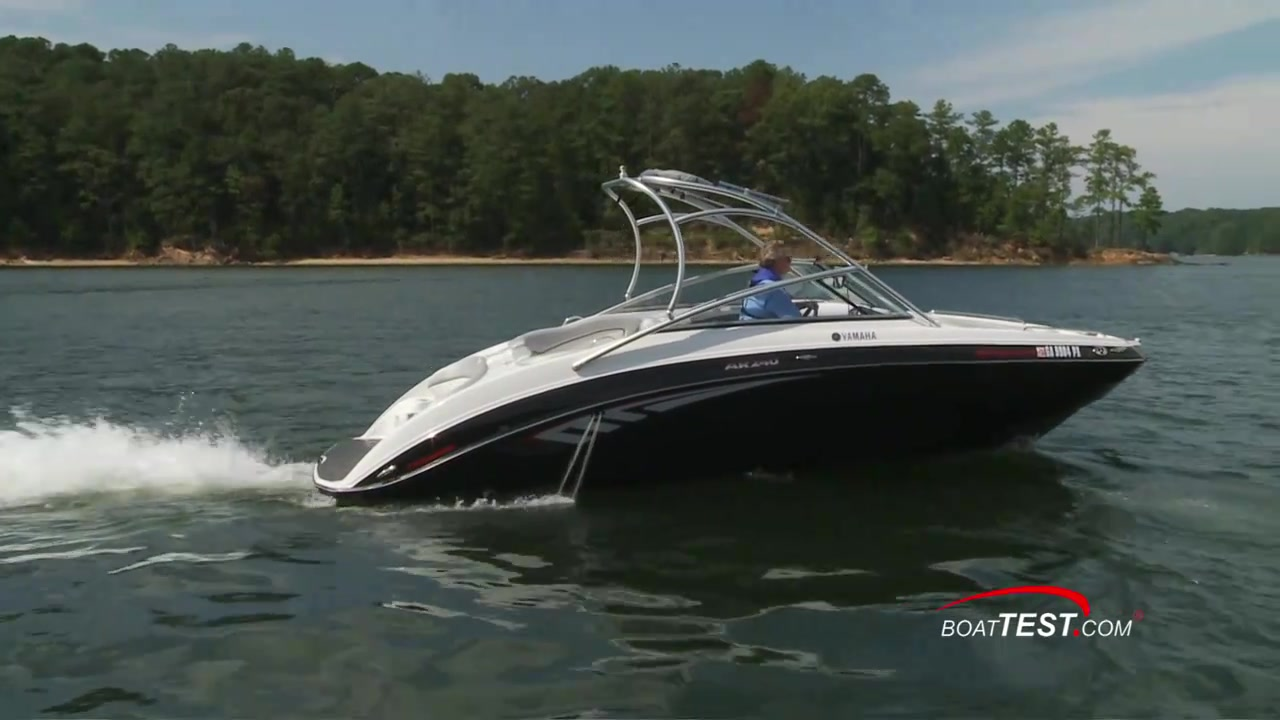boat: (314, 164, 1152, 528)
